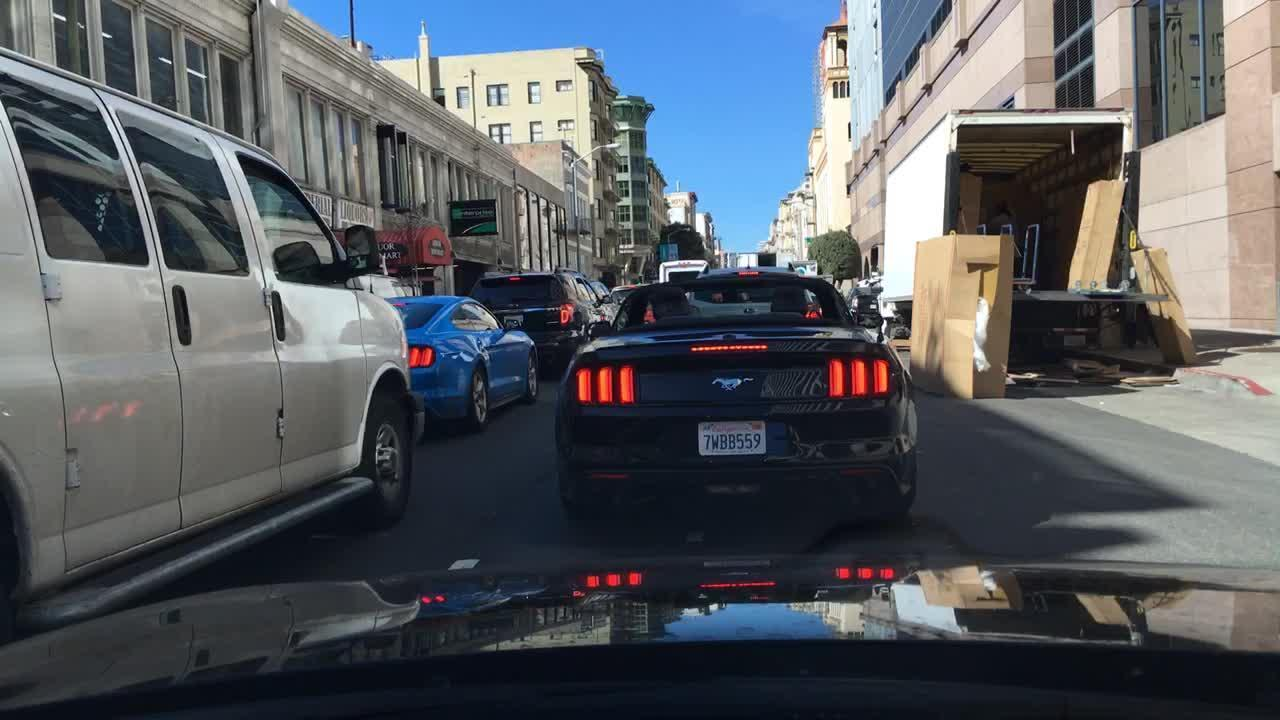no class: (704, 363, 764, 399)
